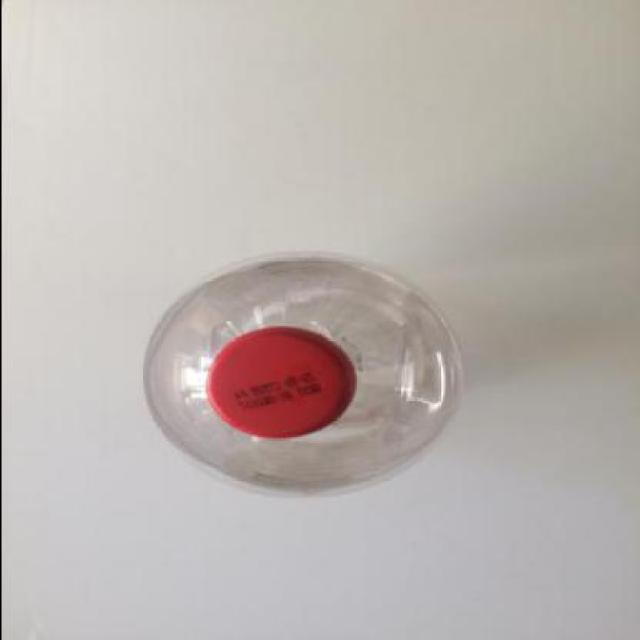PLASTIC: (145, 254, 462, 492), (209, 328, 356, 437)
